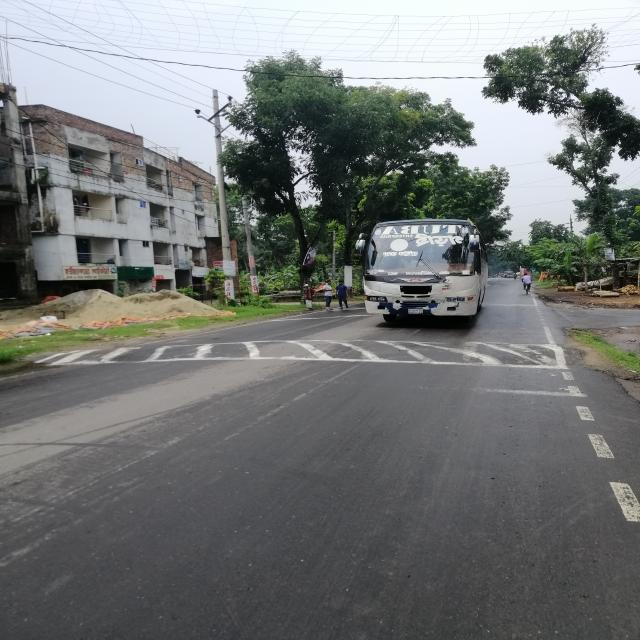Bus: (353, 221, 492, 328)
